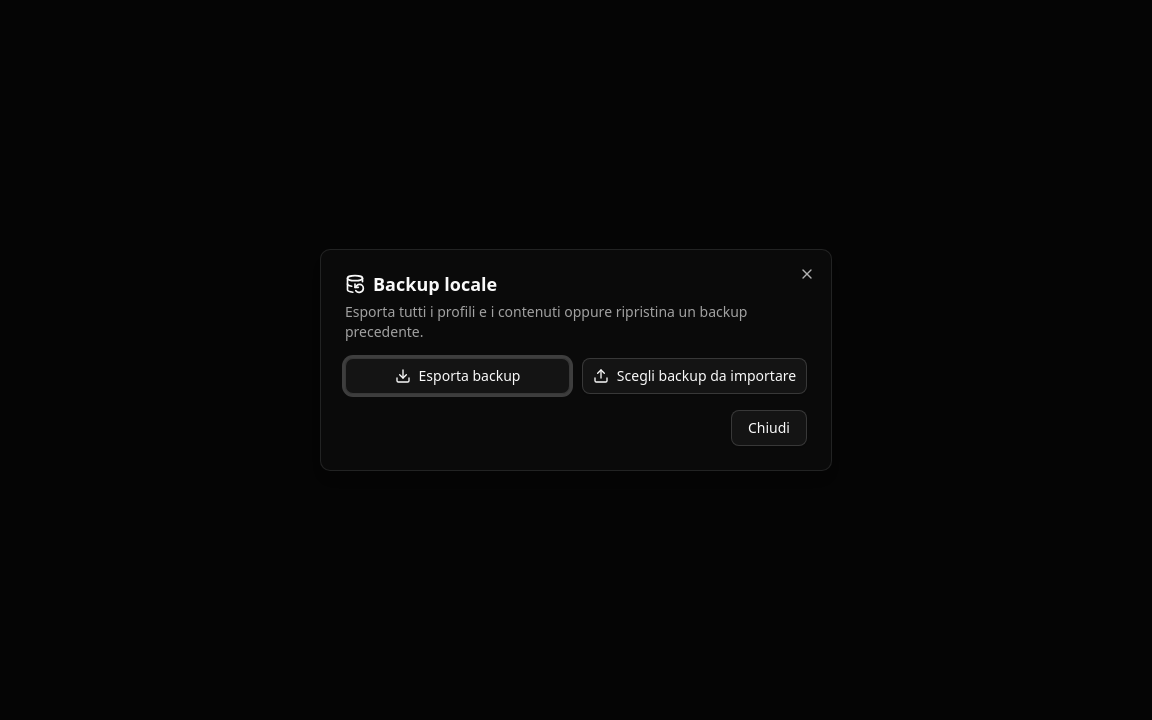
Test case: DatabaseBackupDialog › exports a backup and shows where it was saved
The image size is (1152, 720).
Click the button "Esporta backup": (458, 376) [345,358,570,394]
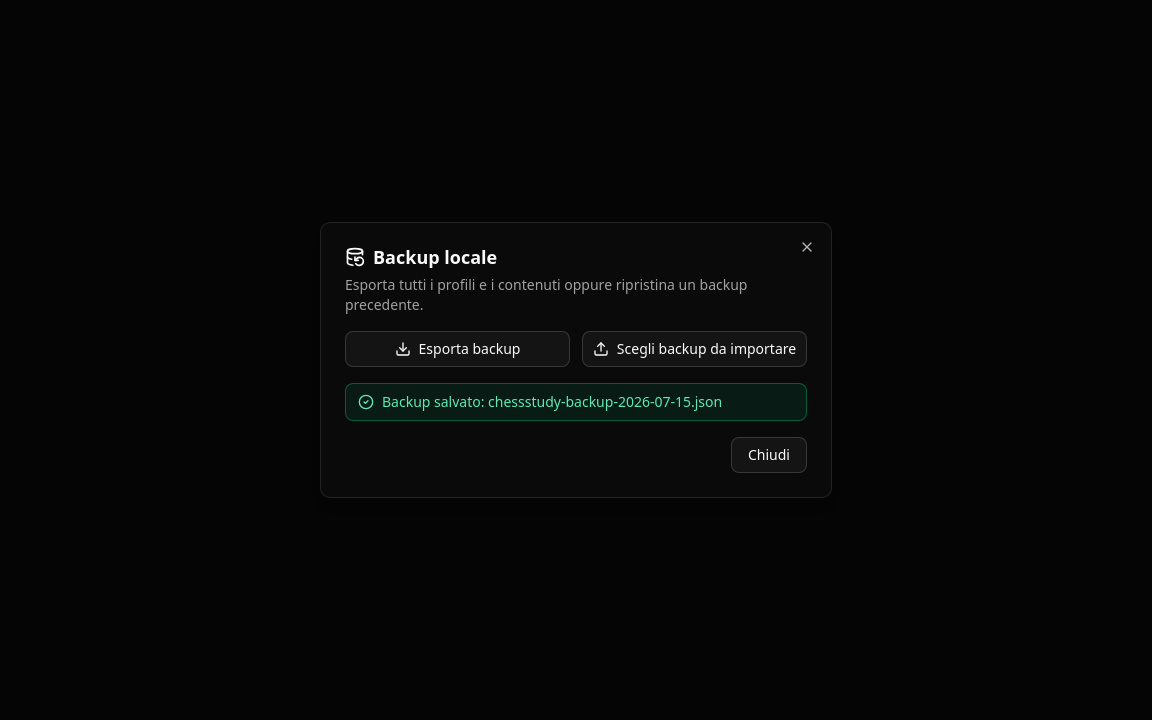
Result: the text "Backup salvato: chessstudy-backup-2026-07-15.json" is shown at [382,392,722,412]
